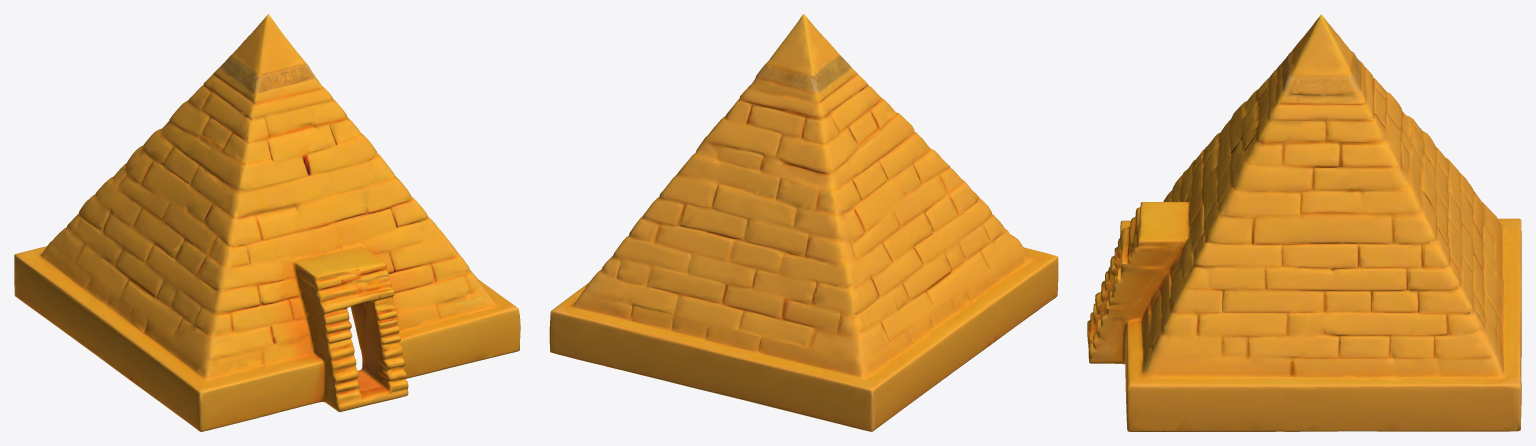
The model's file is Pyramid_0717225058_texture.fbx.
3 renders of one model, left to right at view 1: azimuth 30°, elevation 25°; view 2: azimuth 150°, elevation 25°; view 3: azimuth 270°, elevation 25°, orthographic. The views are drawn at different scales.
Parts seen in each view (by area): view 1: Mesh_0; view 2: Mesh_0; view 3: Mesh_0.
Boxes of the visible parts, box(x1,y1,x2,y2) form: Mesh_0: box(14, 14, 520, 431); Mesh_0: box(549, 14, 1058, 431); Mesh_0: box(1087, 14, 1521, 431).
Size of the model in its own units: 185 by 176 by 200.
1 material, 1 textured.
